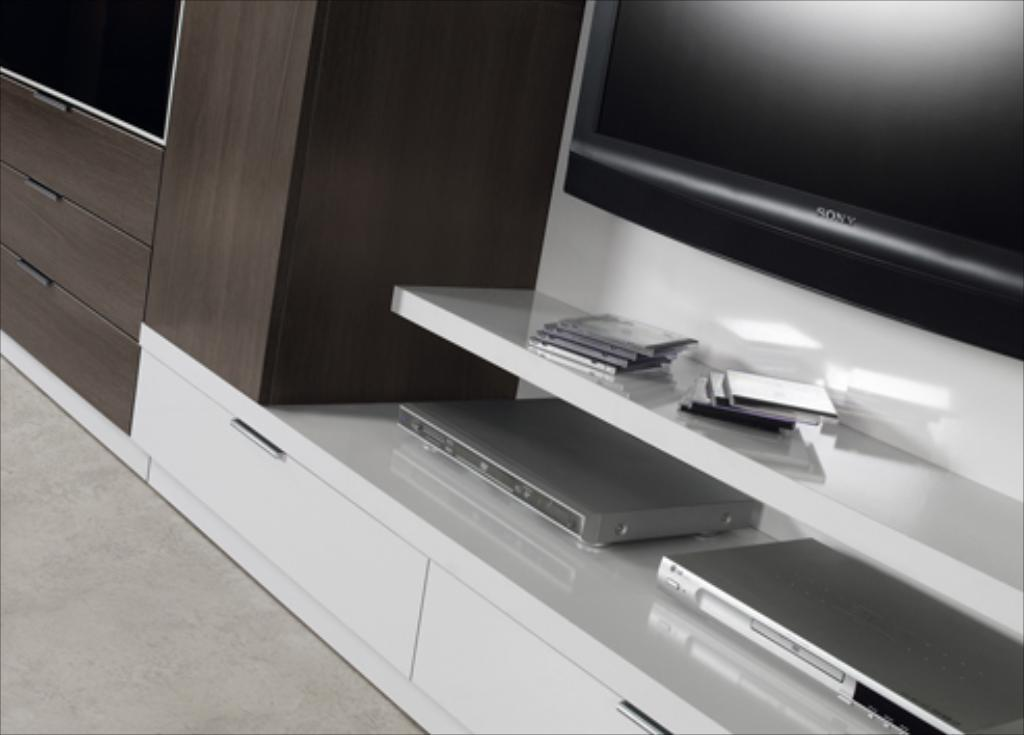cabinet_door: (143, 395, 376, 507), (2, 188, 148, 272), (4, 102, 150, 185), (8, 286, 140, 369)
handle: (223, 414, 285, 466), (604, 705, 694, 735), (14, 248, 58, 294), (23, 176, 68, 211), (28, 87, 74, 116)
